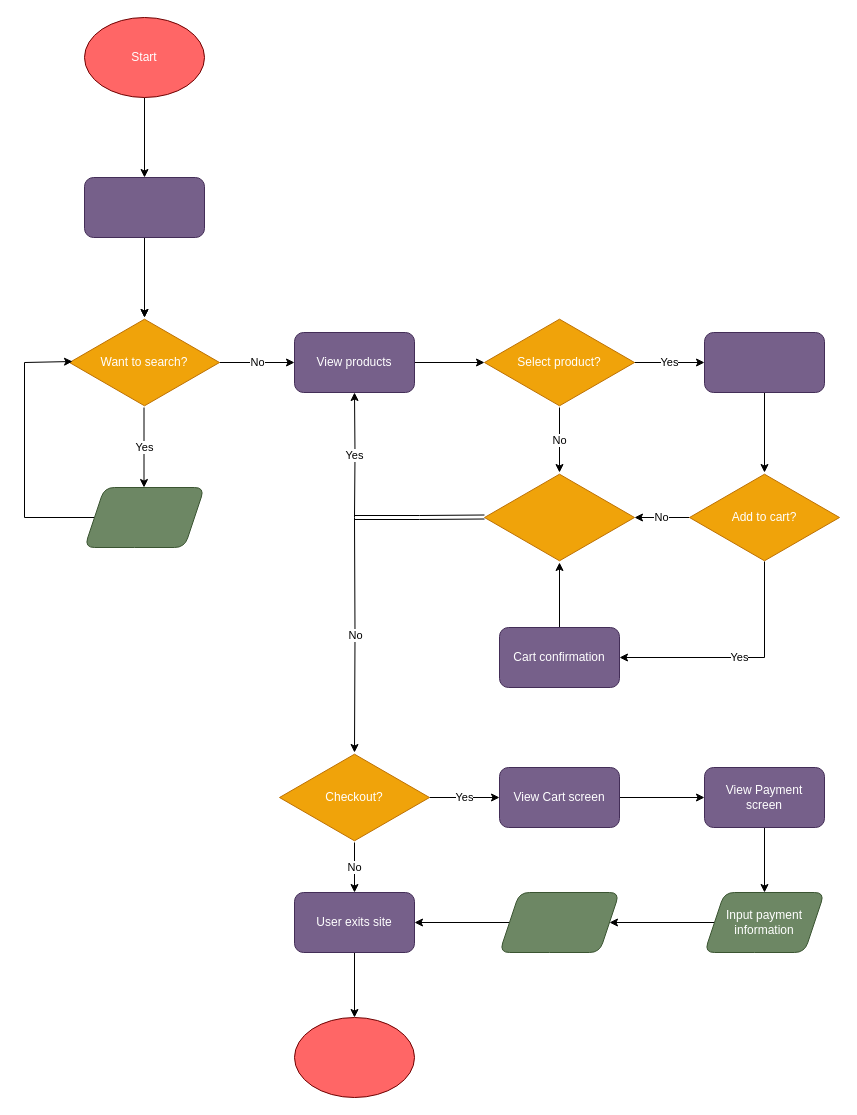
Some shapes in this 857 by 1115 pixel diagram are drawn without their labels. Each missing label, with the centre of its shape:
"Continue shopping?" belongs at (x=559, y=517).
"End" belongs at (x=354, y=1057).
"Input search query" belongs at (x=144, y=517).
"Output order confirmation email and screen" belongs at (x=559, y=922).
"Product webpage opens" belongs at (x=764, y=362).
"User enters site" belongs at (x=144, y=207).
